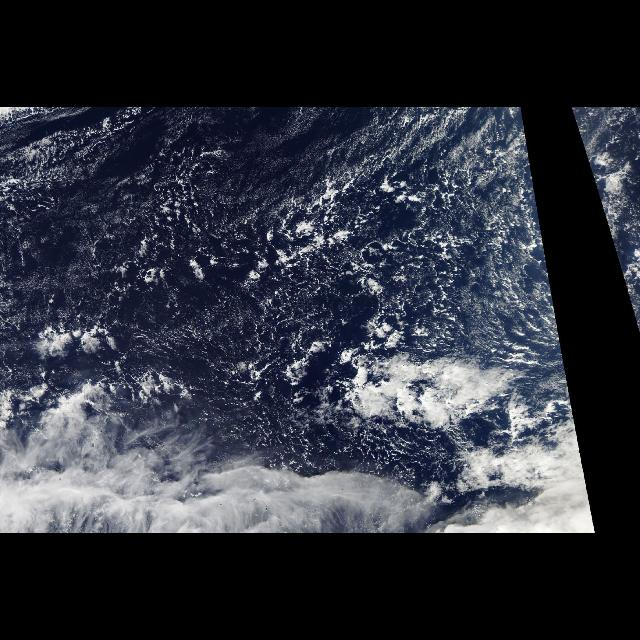Gravel: (10, 110, 582, 484), (570, 110, 640, 334)
Sugar: (38, 198, 132, 255)
